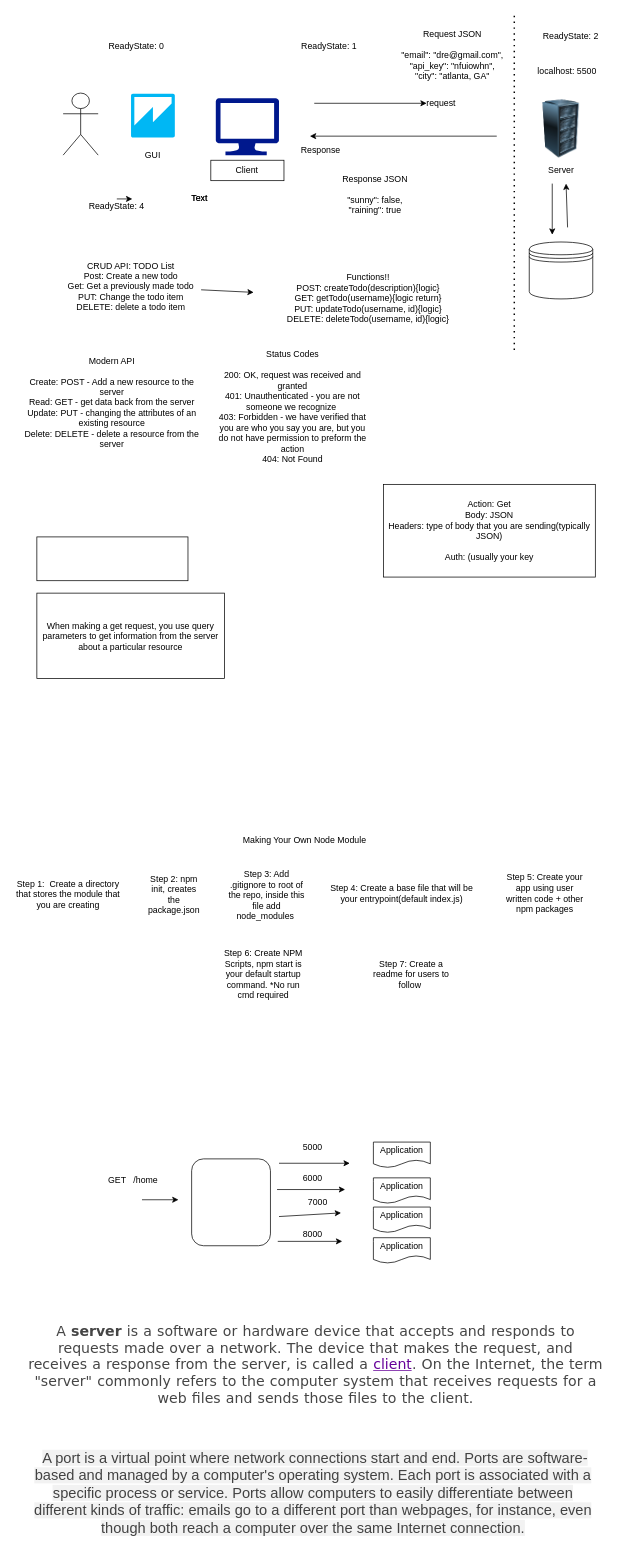
The diagram is 621 pixels wide and 1562 high, and some of its shapes have lost their labels. Each missing label, with the box of its shape:
Database: (529, 241, 593, 299)
header: API KEY google.com?location=Atlanta,GA: (36, 536, 188, 581)
localhost (127.0.0.1): (191, 1158, 270, 1246)
User: (62, 92, 98, 155)
